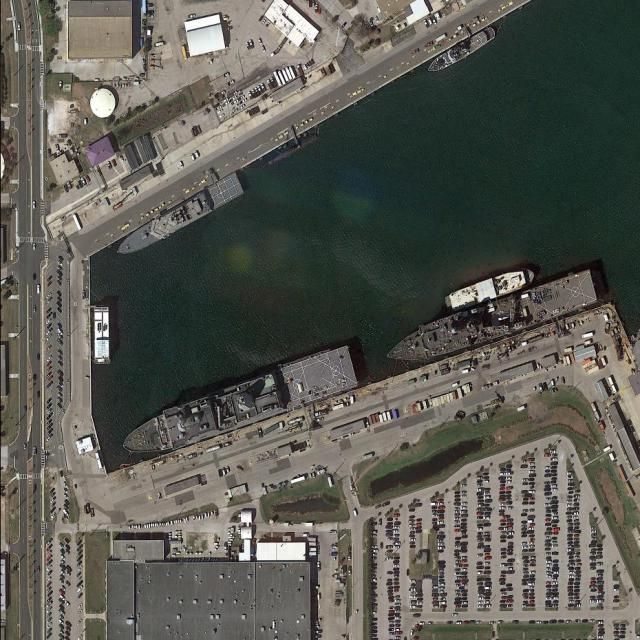Auxiliary Ships: (116, 344, 365, 465)
Landing: (379, 268, 602, 372)
Other Warship: (112, 175, 248, 262), (440, 263, 538, 311), (424, 26, 498, 77)
